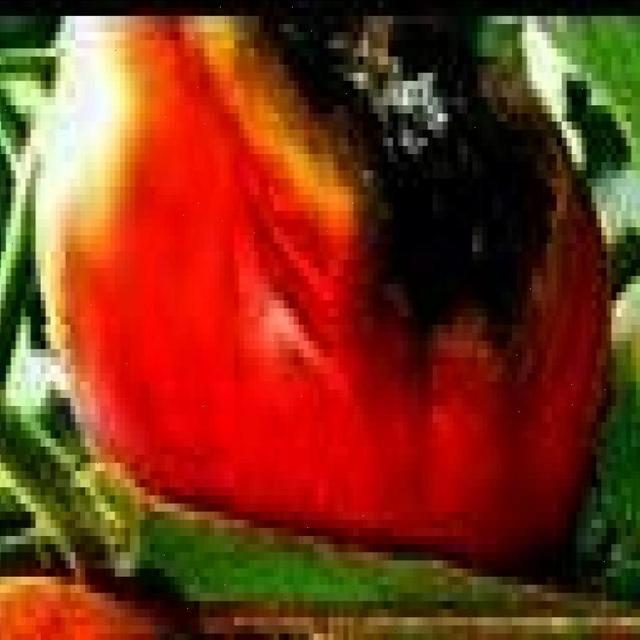Blossom End Rot Fruit: (120, 10, 381, 265)
